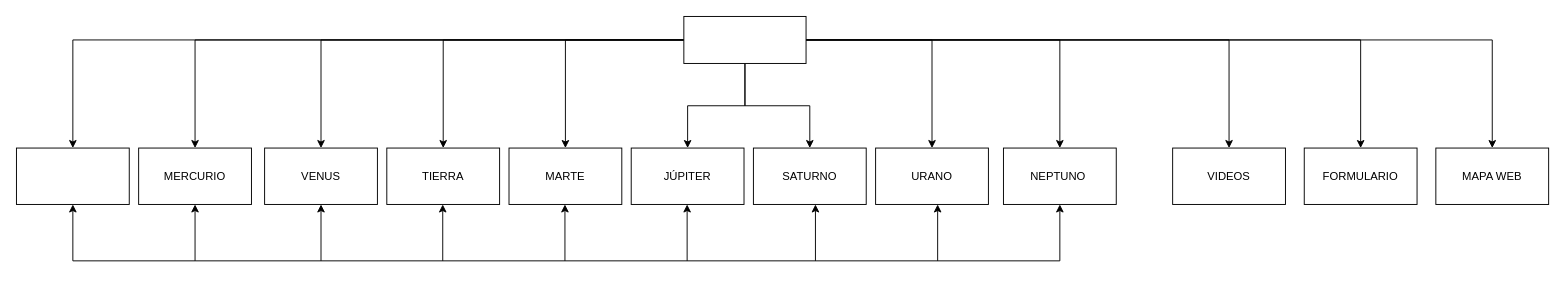
This 1565x286 diagram has some shape labels left out. Here are the shapes that lost their labels. From the top down, the centre of each, then its label:
At point (744, 39): "INDEX".
At point (72, 175): "SOL".
